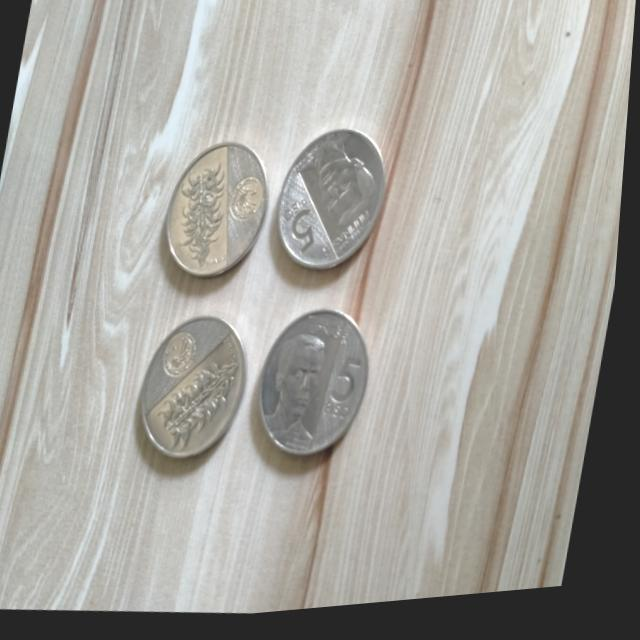5_New_Back: (150, 349, 252, 477), (168, 136, 242, 282)
5_New_Front: (321, 341, 386, 447), (278, 177, 335, 259)
